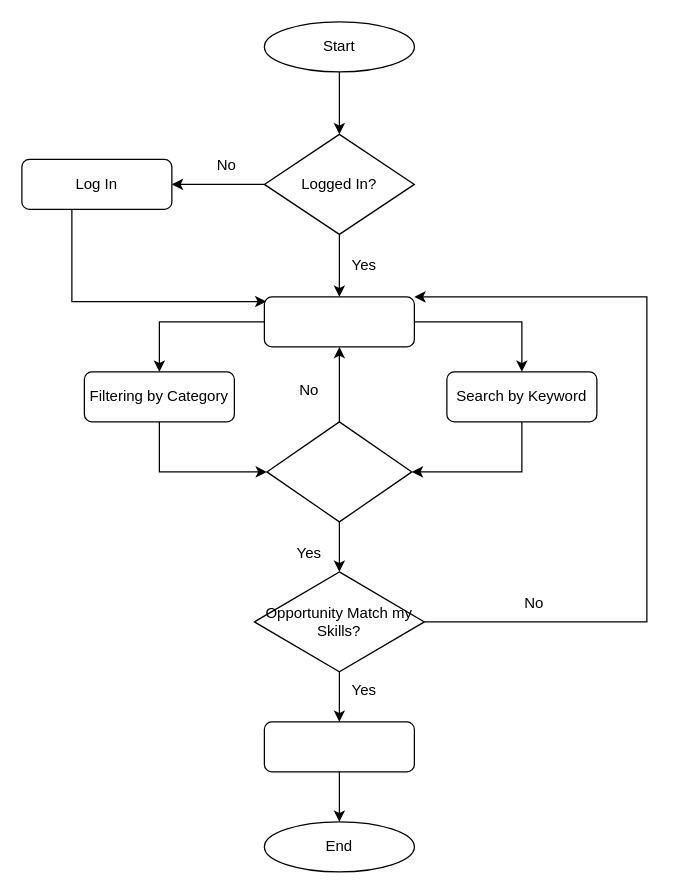
Some shapes in this 679 by 894 pixel diagram are drawn without their labels. The shapes that lost their labels are listed below. From the top down, each one's box as (x1, y1, x2, y2) in pixels, then its label:
(263, 296, 414, 347): Search for an Opportunity
(266, 421, 412, 522): Found the Opportunity?
(263, 721, 414, 772): Apply
